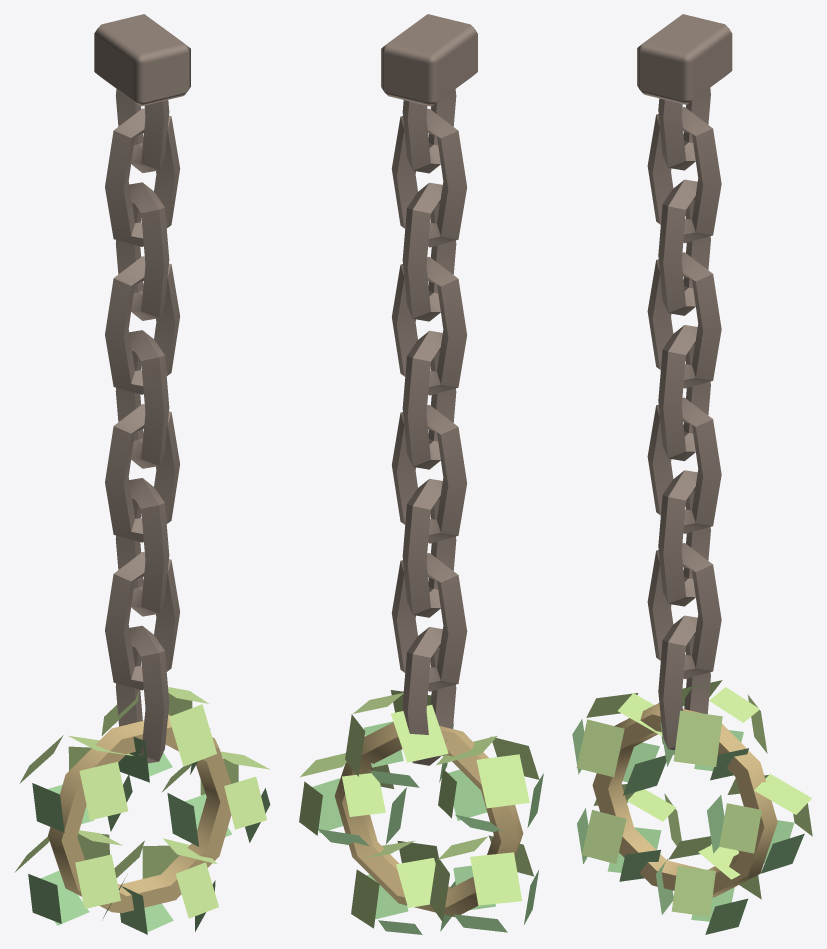
Rendered from mover_chain_anchor.glb.
The picture shows the model from 3 angles, left to right: view 1: azimuth 30°, elevation 25°; view 2: azimuth 150°, elevation 25°; view 3: azimuth 330°, elevation 25°; orthographic projection.
Visible parts, largest first — view 1: mover_chain_anchor; view 2: mover_chain_anchor; view 3: mover_chain_anchor.
Boxes of the visible parts, x1=… form: mover_chain_anchor: x1=14, y1=14, x2=270, y2=934; mover_chain_anchor: x1=299, y1=14, x2=543, y2=934; mover_chain_anchor: x1=572, y1=14, x2=812, y2=934.
Size of the model in its own units: 1.47 by 5.42 by 0.6883.
